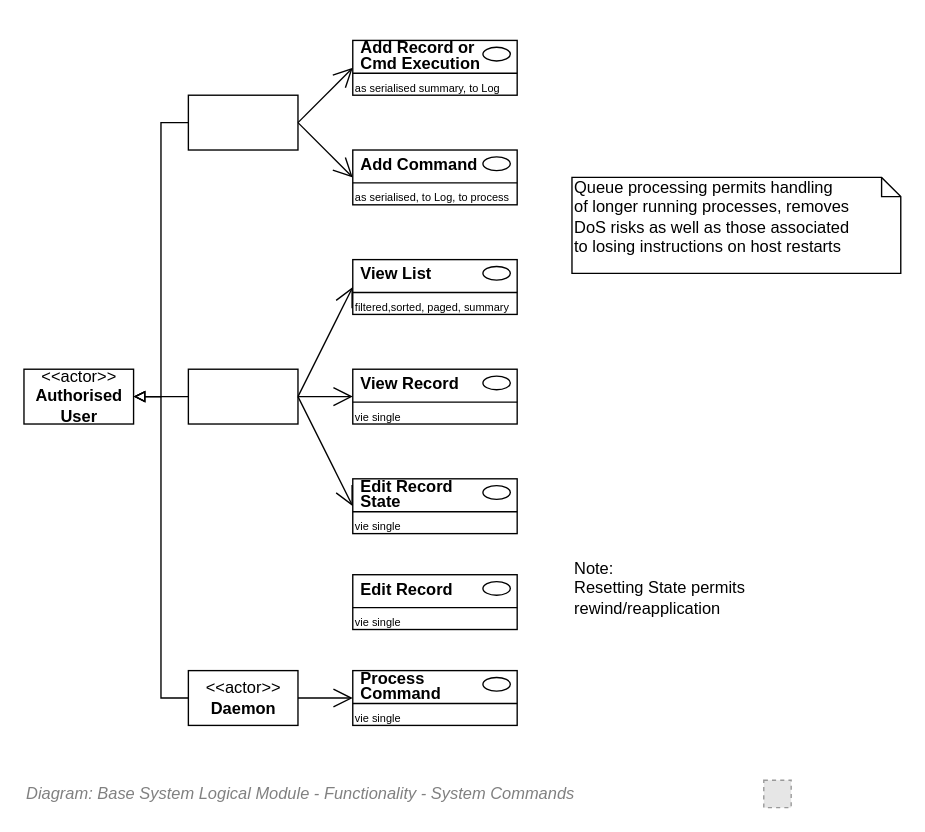
Some shapes in this 925 by 832 pixel diagram are drawn without their labels. Grey dashed boxes stand in for pictures. The shapes that lost their labels are listed below. From the top down, each one's centre as x and y in pixels, then its label:
(242,122): <<actor>> Any User
(242,396): <<actor>> System Admin
